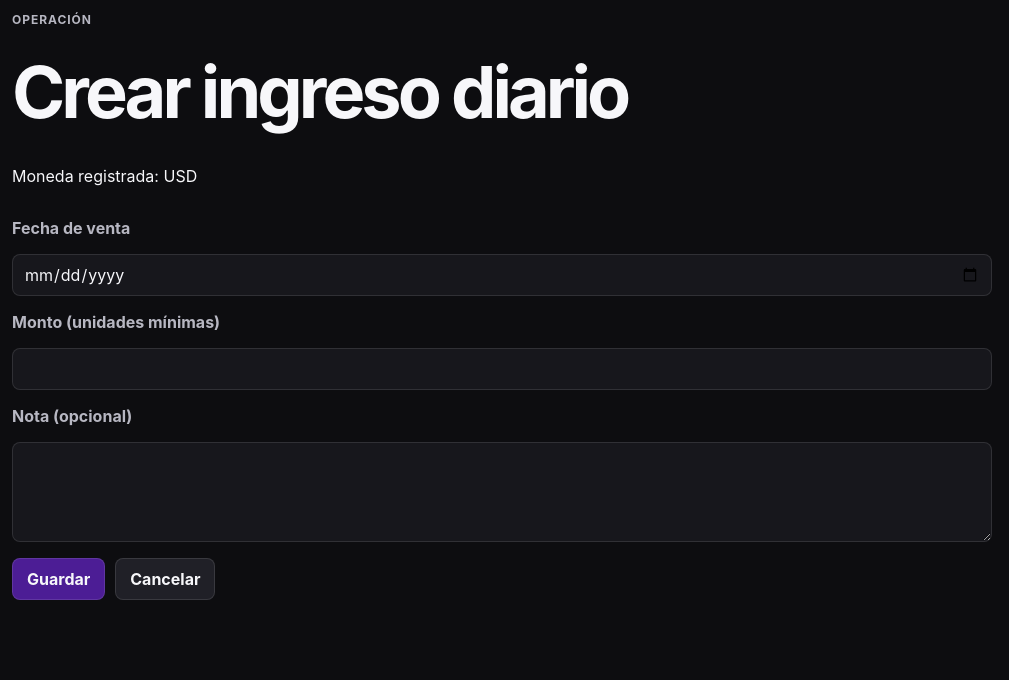
Test case: DailyIncomeForm › rejects zero, future, and duplicate dates before persistence
Expected: the text "Moneda registrada: USD" is shown, [12,166,197,186]
In the date field labelled "Fecha de venta": coordinates (502, 275) [12,254,992,296], type "2026-08-10"
In the field labelled "Monto (unidades mínimas)": coordinates (502, 369) [12,348,992,390], type "0"
Click the button "Guardar": coordinates (59, 579) [12,558,105,600]
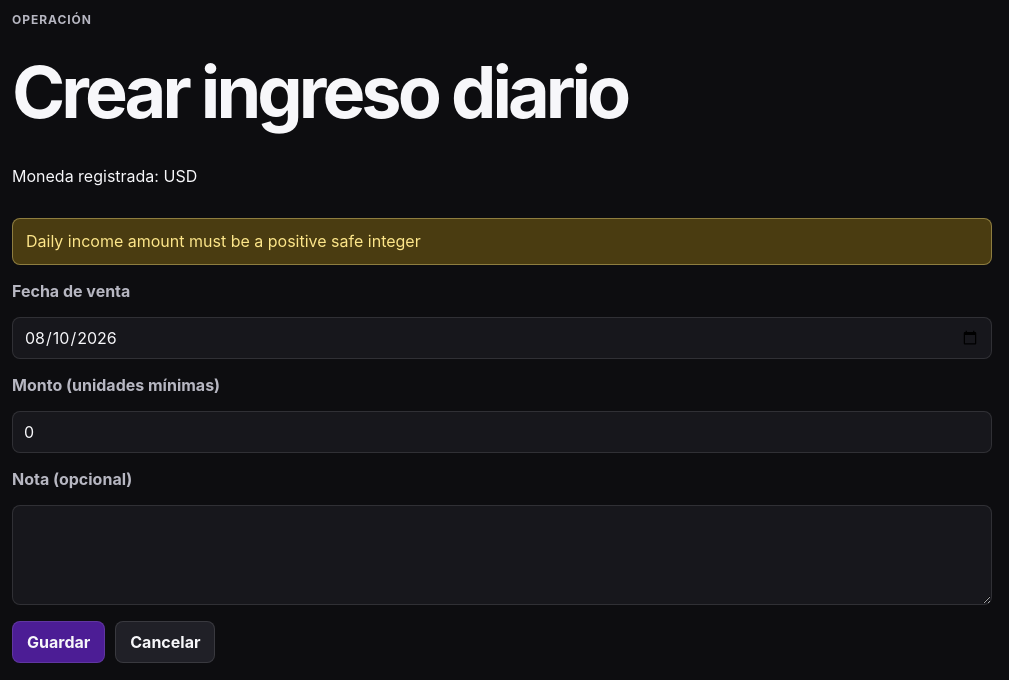
Result: the message reads "Daily income amount must be a positive safe integer" at [26,231,421,251]
Replace the text in the field labelled "Monto (unidades mínimas)" with "10": coordinates (502, 432) [12,411,992,453]
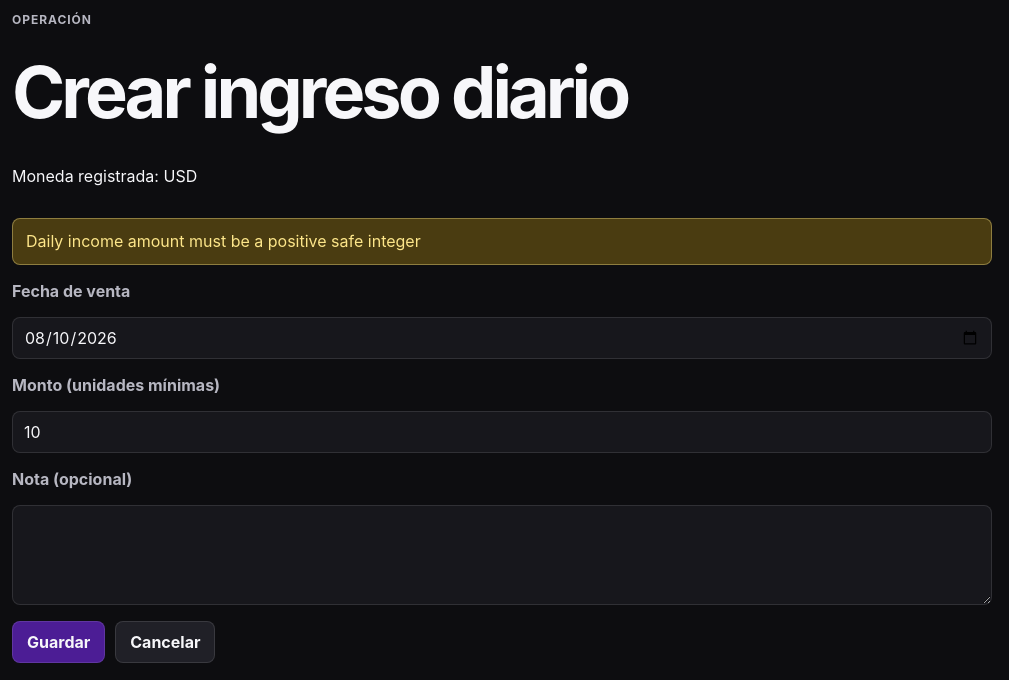
In the date field labelled "Fecha de venta": coordinates (502, 338) [12,317,992,359], type "2026-08-11"
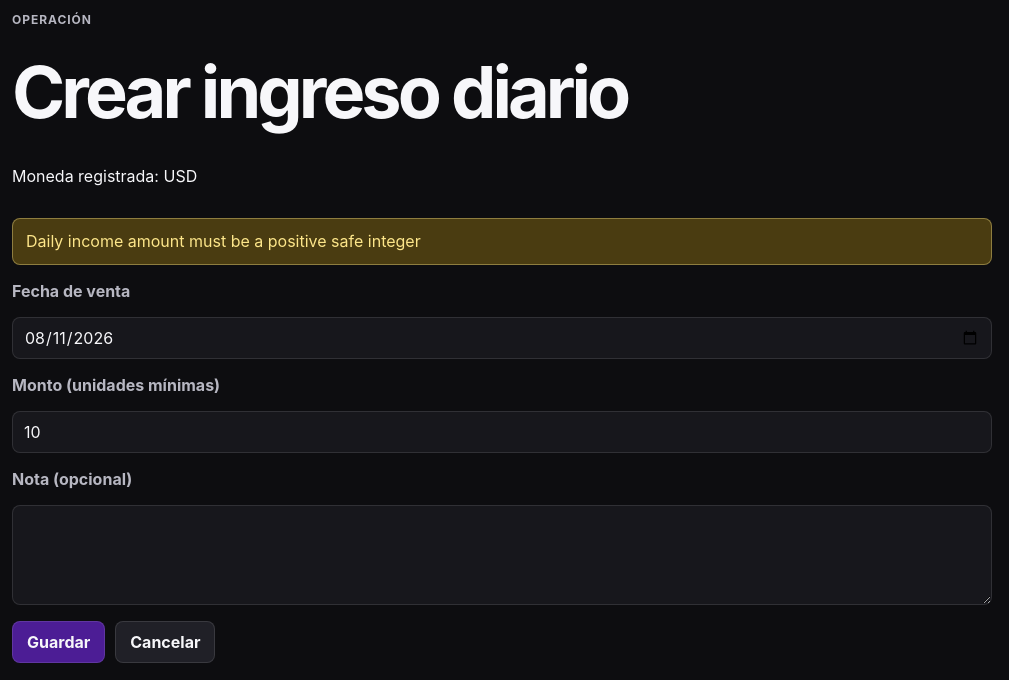
Click the button "Guardar": coordinates (59, 642) [12,621,105,663]
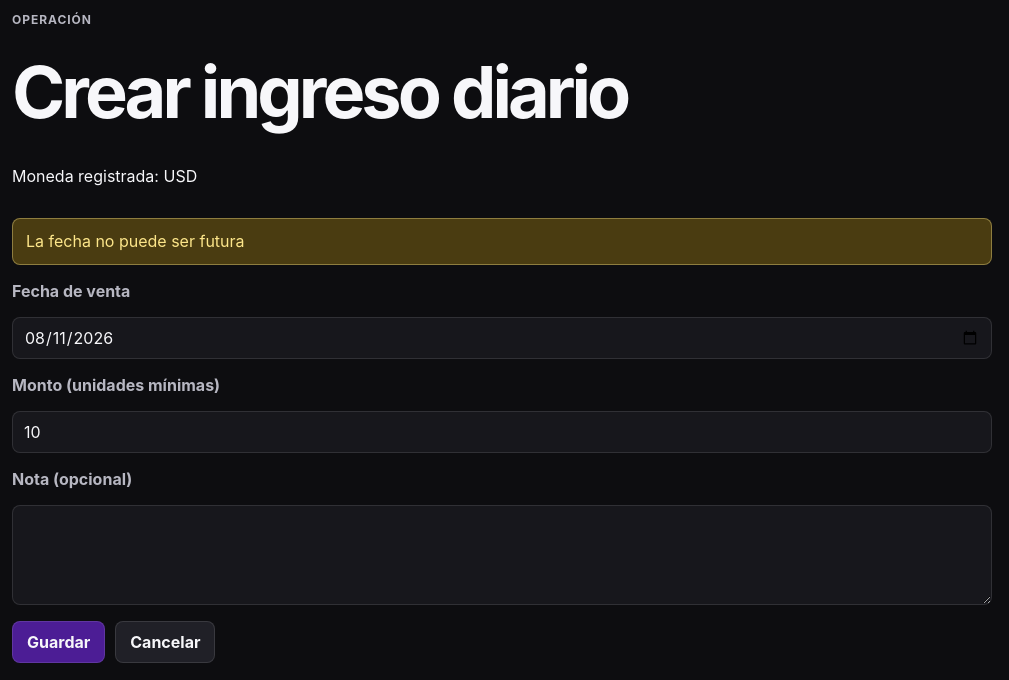
Result: the message reads "La fecha no puede ser futura" at [26,231,244,251]
In the date field labelled "Fecha de venta": coordinates (502, 338) [12,317,992,359], type "2026-08-10"
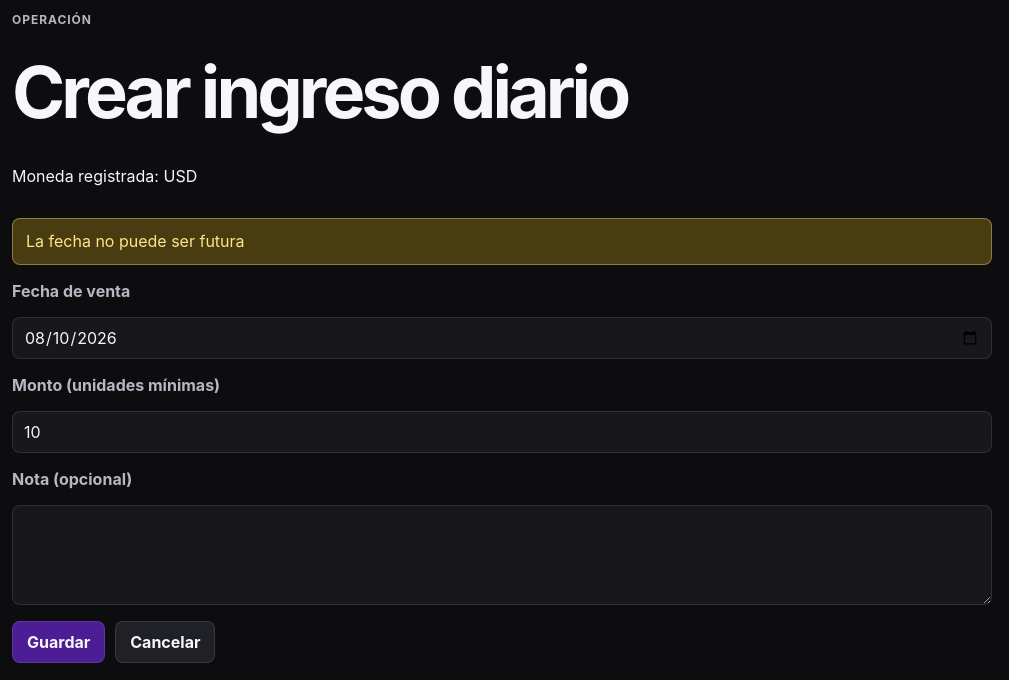
Click the button "Guardar": coordinates (59, 642) [12,621,105,663]
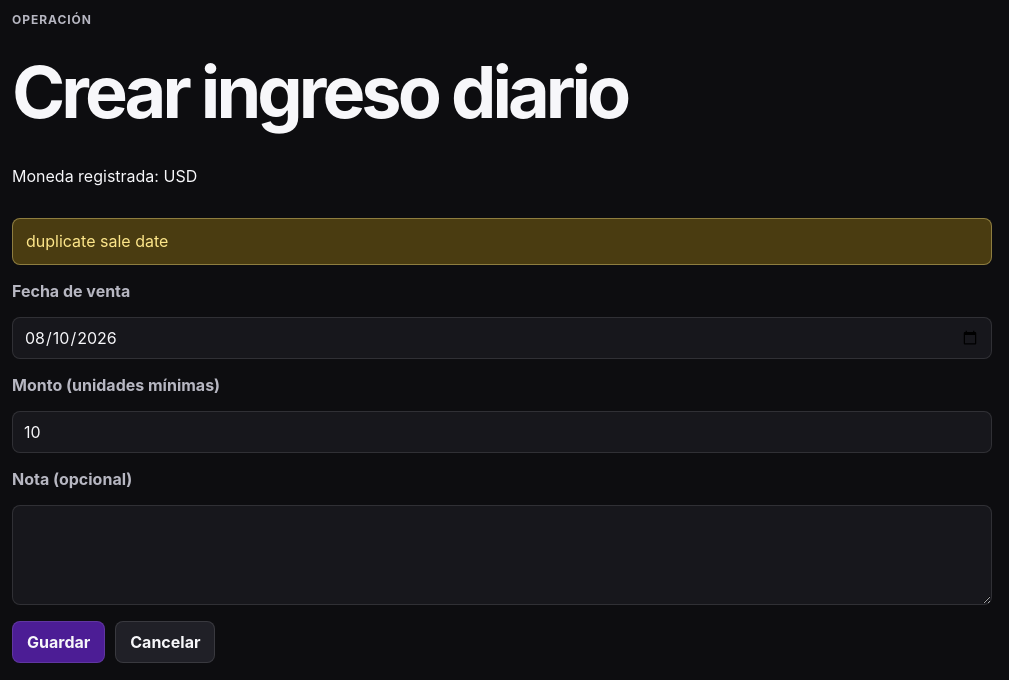
Result: the message reads "duplicate sale date" at [26,231,168,251]
